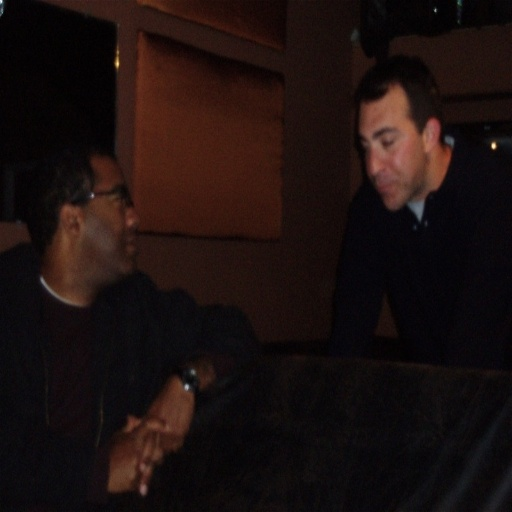hand: (105, 349, 222, 471), (101, 414, 172, 494)
